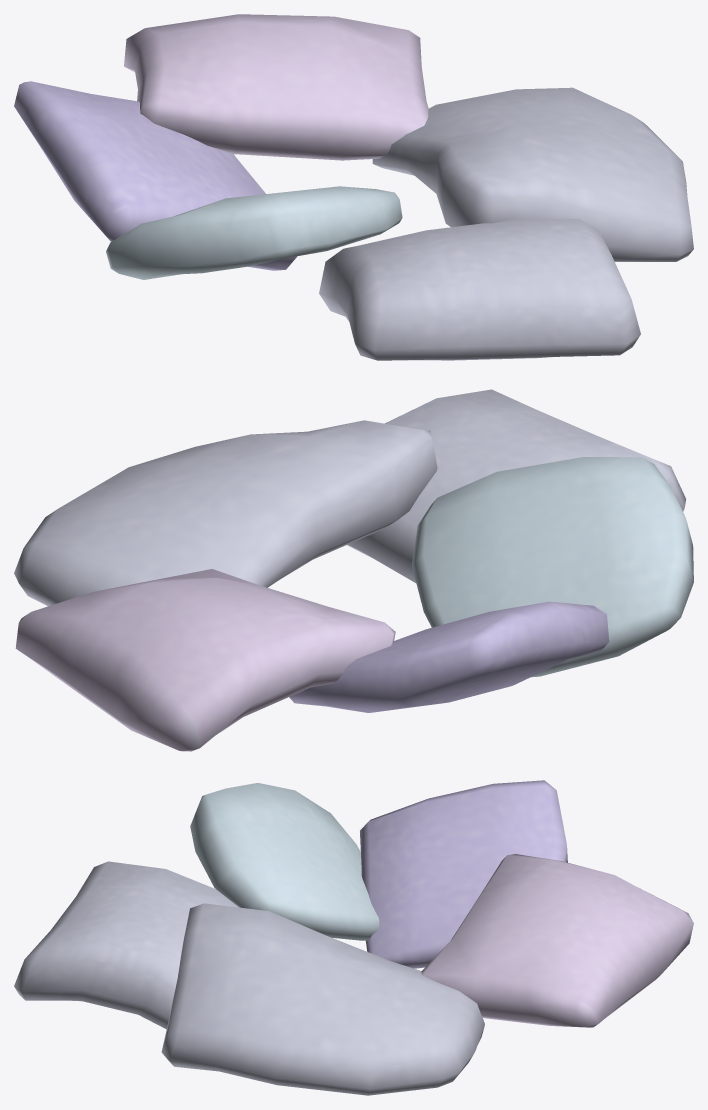
File: SM_Cat_Portal_2.fbx
The picture shows the model from 3 angles, top to bottom: view 1: azimuth 30°, elevation 25°; view 2: azimuth 150°, elevation 25°; view 3: azimuth 270°, elevation 25°; orthographic projection. The views are drawn at different scales.
Parts seen in each view (by area): view 1: SM_Cat_Portal_2; view 2: SM_Cat_Portal_2; view 3: SM_Cat_Portal_2.
Boxes of the visible parts, x1=… form: SM_Cat_Portal_2: x1=14, y1=14, x2=693, y2=360; SM_Cat_Portal_2: x1=14, y1=389, x2=693, y2=751; SM_Cat_Portal_2: x1=14, y1=780, x2=693, y2=1095.
Bounding box in the file's own units: 105 × 28.34 × 128.
